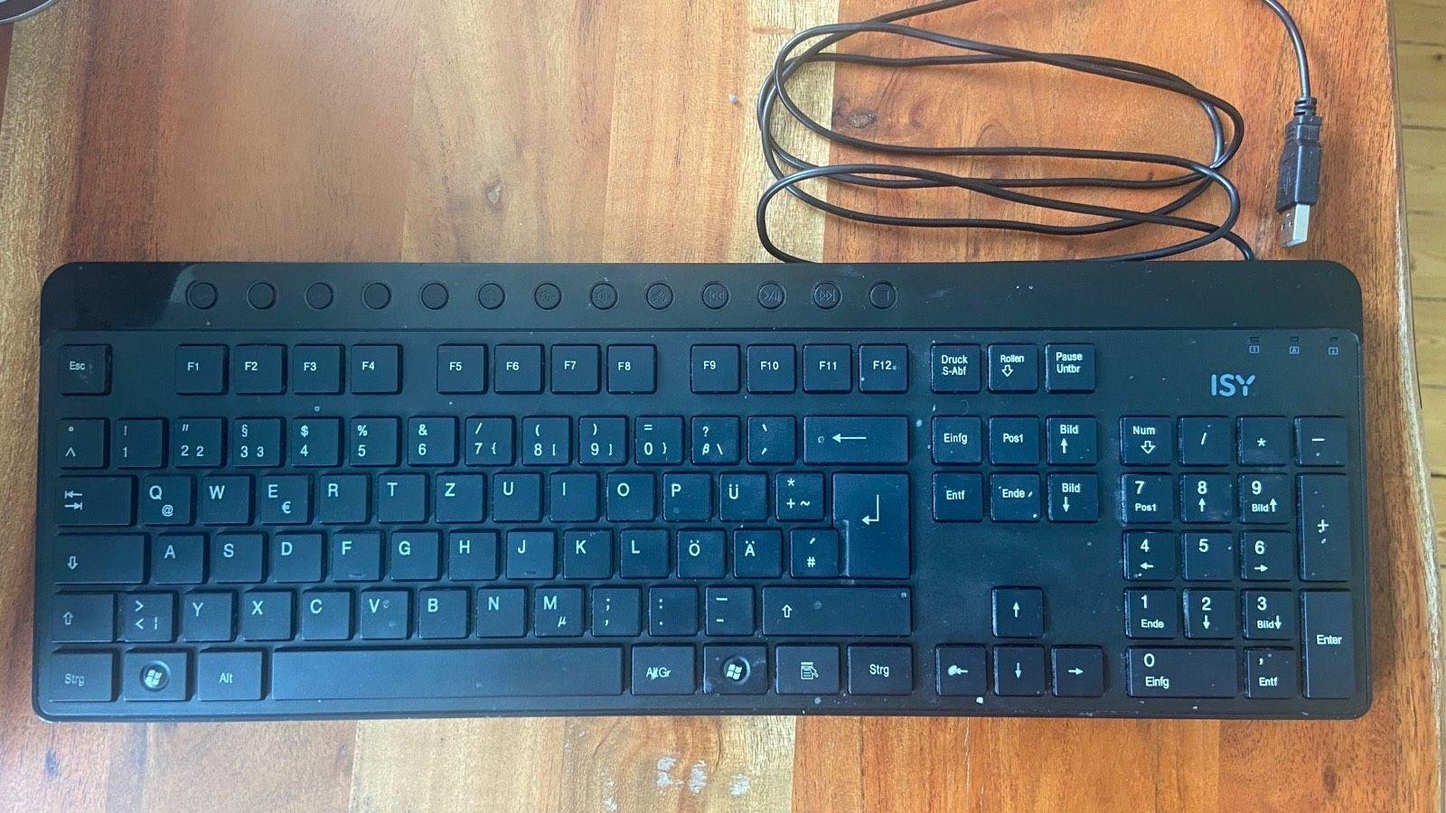0: (630, 411, 681, 463)
1: (109, 414, 162, 466)
2: (168, 413, 221, 465)
3: (226, 413, 280, 465)
4: (286, 413, 337, 463)
5: (343, 413, 396, 463)
6: (402, 412, 455, 463)
7: (461, 411, 511, 462)
8: (517, 411, 568, 463)
9: (574, 411, 624, 463)
a: (148, 528, 202, 581)
accent: (743, 410, 793, 460)
ae: (728, 524, 779, 575)
alt-left: (192, 645, 262, 699)
altgr-right: (626, 640, 692, 693)
b: (413, 583, 465, 636)
c: (296, 584, 348, 638)
caret: (52, 414, 102, 465)
comma: (587, 581, 637, 633)
d: (268, 528, 319, 580)
del: (799, 410, 907, 461)
e: (254, 469, 306, 521)
enter: (830, 466, 909, 575)
f: (327, 527, 378, 577)
g: (385, 526, 436, 577)
h: (444, 526, 494, 577)
hash: (786, 524, 837, 574)
i: (545, 466, 595, 518)
j: (502, 525, 551, 576)
k: (559, 525, 608, 575)
keyboard: (29, 257, 1377, 723)
l: (615, 524, 665, 575)
less: (115, 586, 171, 639)
m: (528, 581, 580, 634)
minus: (700, 581, 750, 632)
n: (471, 582, 523, 634)
o: (601, 467, 652, 519)
oe: (671, 525, 722, 575)
p: (658, 467, 708, 519)
plus: (770, 466, 822, 518)
point: (643, 581, 694, 633)
q: (134, 470, 190, 523)
r: (312, 469, 365, 520)
s: (207, 528, 260, 580)
shift-left: (45, 589, 109, 640)
shift-lock: (48, 528, 143, 582)
shift-right: (757, 580, 907, 632)
space: (266, 641, 622, 697)
ss: (686, 411, 737, 461)
strg-left: (38, 648, 112, 702)
strg-right: (842, 640, 913, 693)
t: (372, 468, 422, 519)
tab: (49, 470, 128, 522)
u: (487, 467, 538, 519)
ue: (714, 467, 764, 519)
v: (354, 583, 407, 636)
w: (194, 469, 248, 521)
x: (237, 585, 290, 638)
y: (176, 586, 230, 639)
z: (430, 468, 482, 519)
